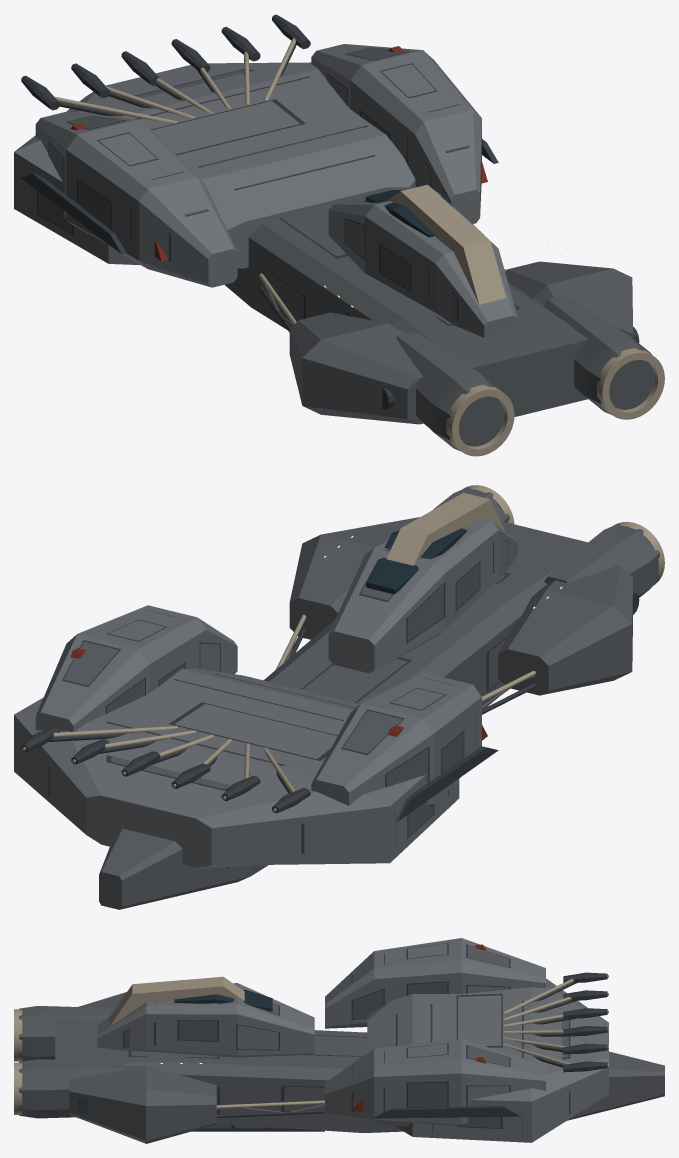
Rendered from battleship_forge_ironwall.glb.
The picture shows the model from 3 angles, top to bottom: view 1: azimuth 30°, elevation 25°; view 2: azimuth 150°, elevation 25°; view 3: azimuth 270°, elevation 25°; orthographic projection. The views are drawn at different scales.
Parts seen in each view (by area): view 1: v4_forge_hull, v4_forge_secondary, v4_forge_trim, v4_forge_dark, v4_forge_glass; view 2: v4_forge_hull, v4_forge_secondary, v4_forge_dark, v4_forge_trim, v4_forge_glass; view 3: v4_forge_hull, v4_forge_secondary, v4_forge_dark, v4_forge_trim, v4_forge_glass.
Boxes of the visible parts, x1,y1,x2,y2 form: v4_forge_hull: (14, 44, 517, 337); v4_forge_secondary: (38, 48, 654, 451); v4_forge_trim: (54, 38, 664, 456); v4_forge_dark: (21, 14, 639, 409); v4_forge_glass: (366, 190, 454, 237); v4_forge_hull: (14, 518, 517, 867); v4_forge_secondary: (60, 487, 659, 909); v4_forge_dark: (21, 540, 639, 868); v4_forge_trim: (22, 485, 664, 813); v4_forge_glass: (366, 528, 466, 593); v4_forge_hull: (97, 938, 608, 1142); v4_forge_secondary: (19, 945, 664, 1143); v4_forge_dark: (78, 943, 607, 1136); v4_forge_trim: (14, 975, 608, 1114); v4_forge_glass: (174, 989, 272, 1011).
Bounding box in the file's own units: 99.22 × 47.61 × 204.
